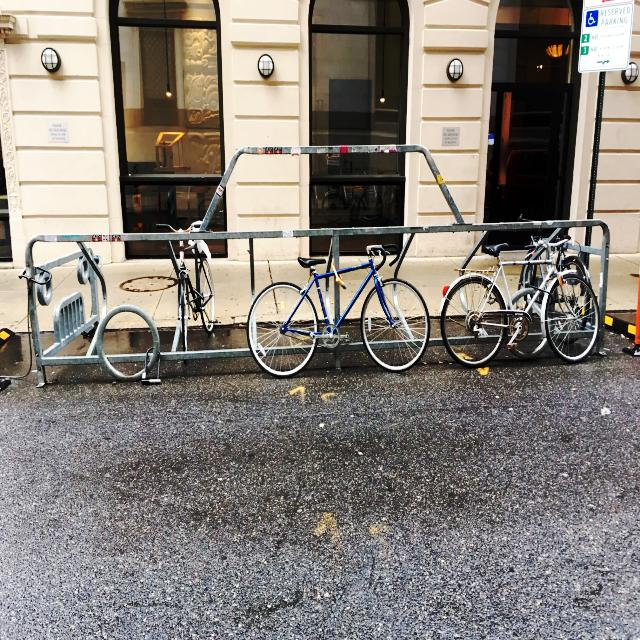bike: (242, 244, 431, 379), (438, 235, 601, 370), (156, 221, 217, 355)
